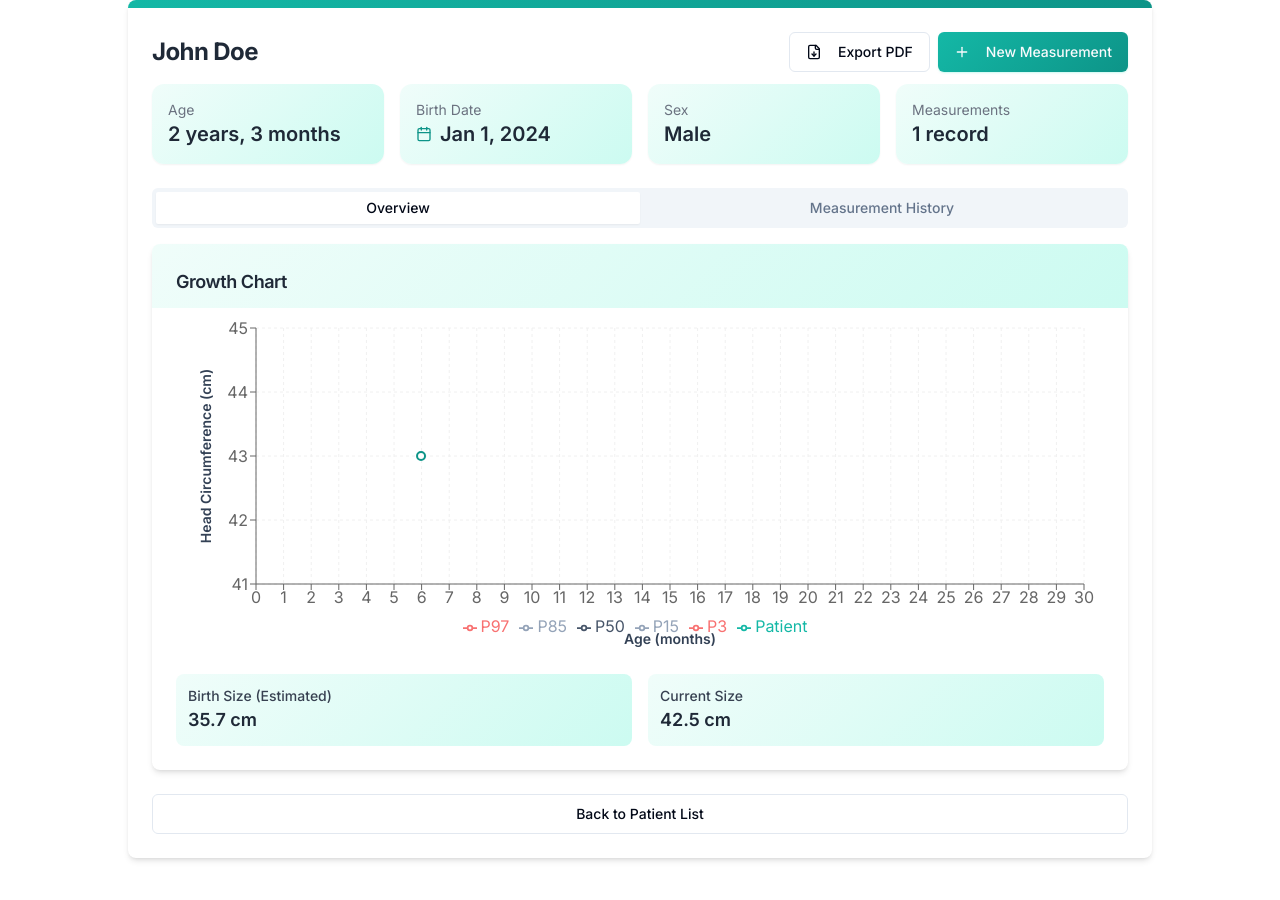
Test case: PatientDetail › opens delete confirm when trash button is clicked
Click the tab "Measurement History" at (882, 208), box [640, 192, 1124, 224]
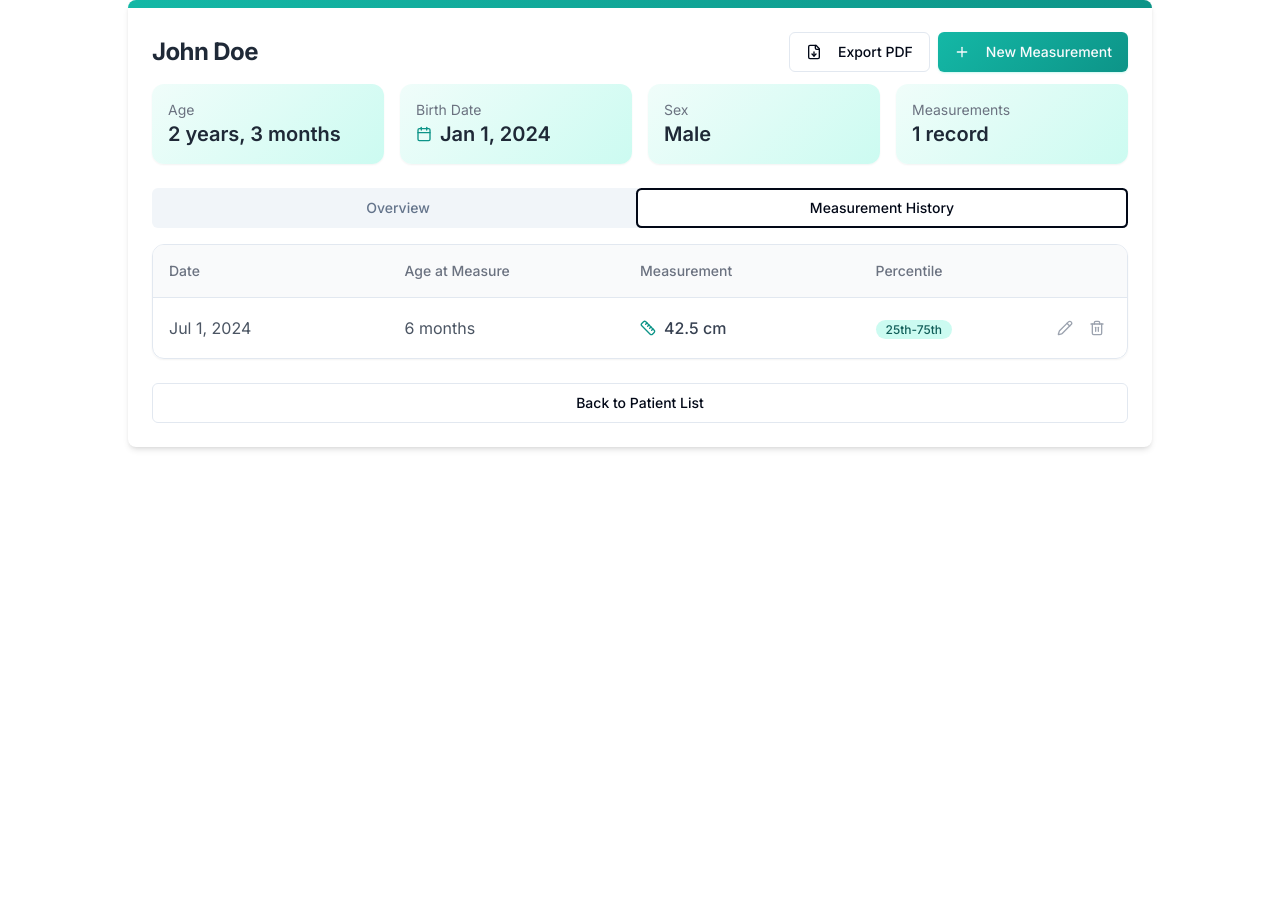
Click the button named "delete measurement" at (1097, 328), box [1083, 314, 1111, 342]
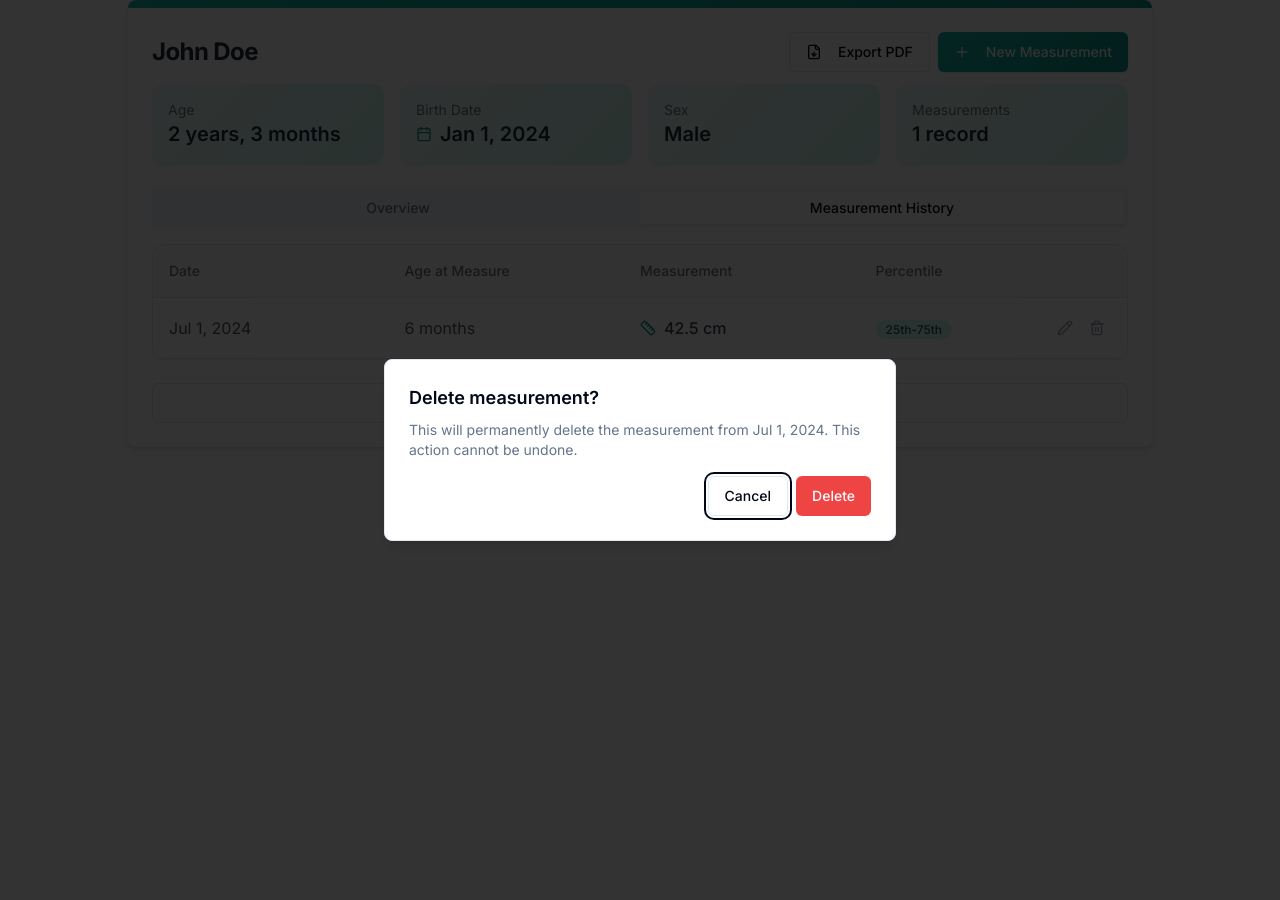
Expected: the heading "Delete measurement?" is shown, [409, 387, 599, 408]
